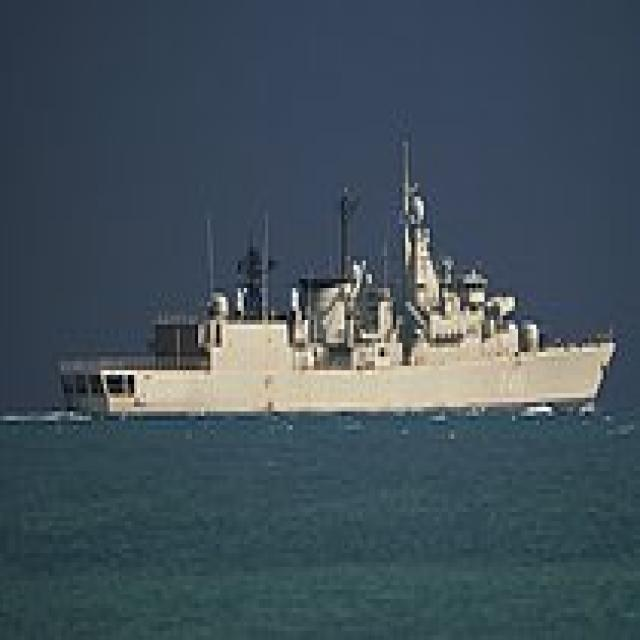Warship: (58, 132, 612, 420)
